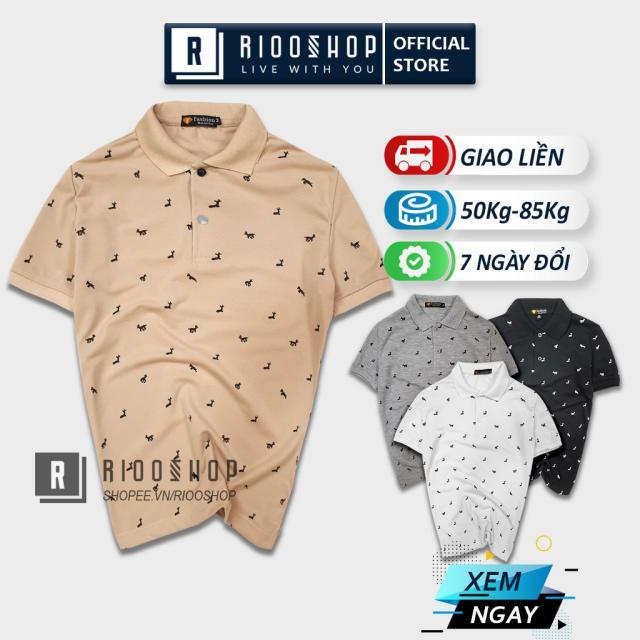Shirt: (12, 100, 397, 558)
